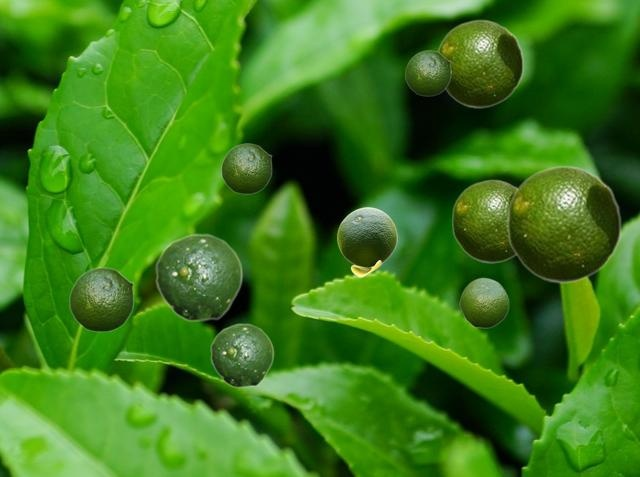calamansi: (506, 165, 621, 282), (155, 233, 242, 321), (437, 19, 523, 107), (451, 179, 517, 262), (69, 267, 133, 331), (337, 207, 396, 276), (210, 323, 273, 387), (221, 143, 271, 193), (459, 277, 508, 327), (405, 50, 450, 95)
